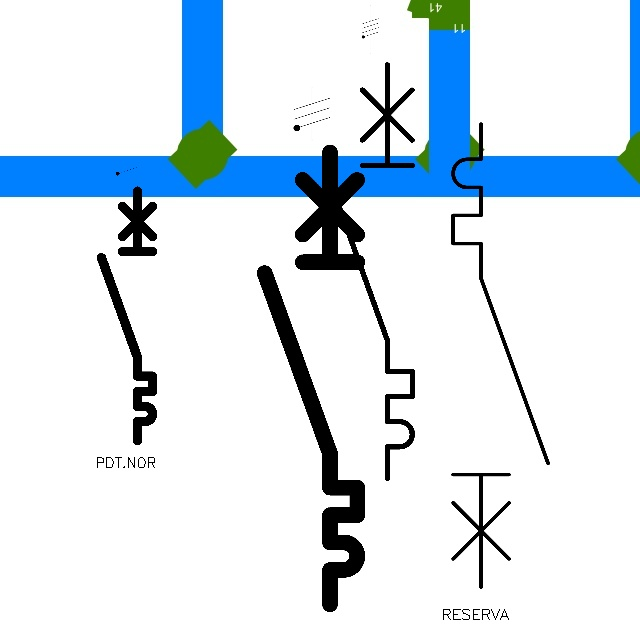interruptor_termomagnetico: (441, 112, 560, 598), (253, 140, 369, 615), (317, 54, 423, 489), (95, 184, 159, 446)
